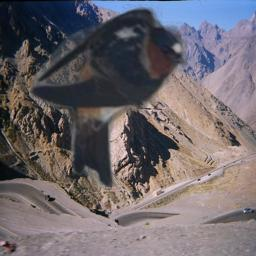Swallow: (30, 4, 188, 187)
